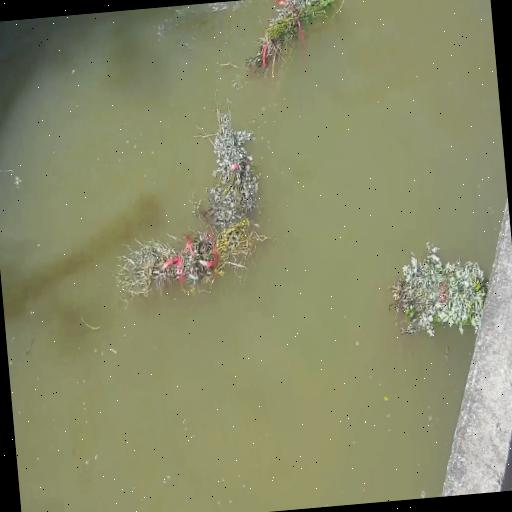twig: (386, 238, 490, 342), (192, 96, 265, 232), (114, 226, 228, 299), (241, 0, 337, 80)
